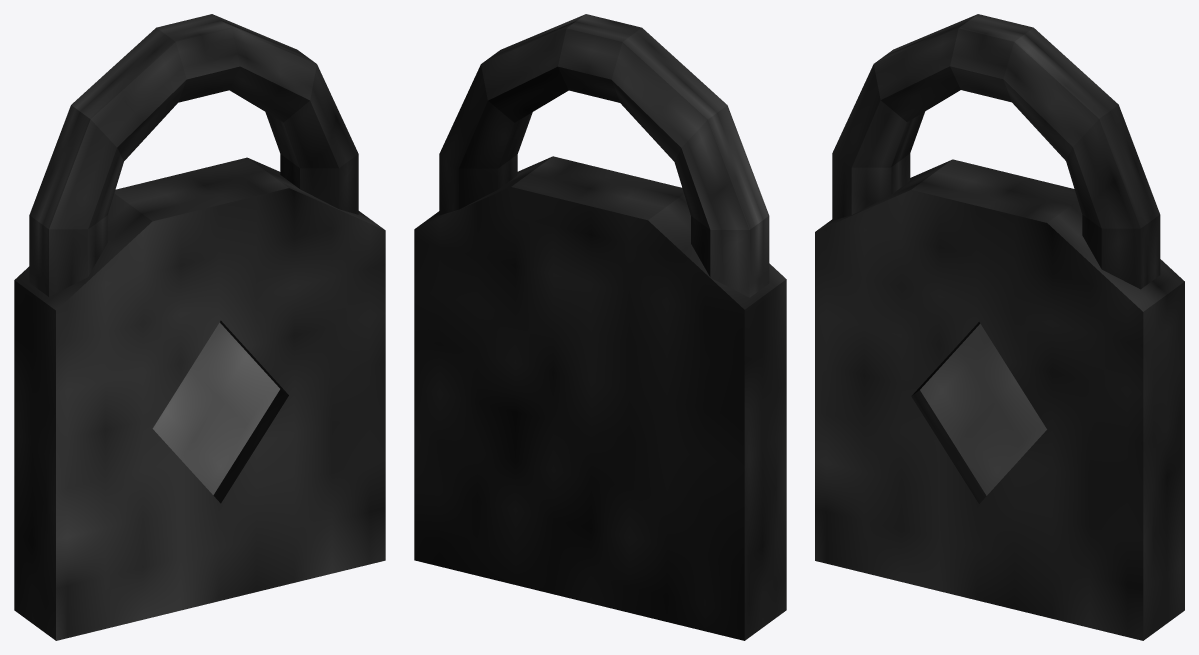
The model's file is LockDoor.fbx.
3 renders of one model, left to right at view 1: azimuth 30°, elevation 25°; view 2: azimuth 150°, elevation 25°; view 3: azimuth 330°, elevation 25°, orthographic.
Parts seen in each view (by area): view 1: Cube.018; view 2: Cube.018; view 3: Cube.018.
Boxes of the visible parts, left/top/right/bottom form: Cube.018: left=14, top=14, right=385, bottom=640; Cube.018: left=414, top=14, right=786, bottom=640; Cube.018: left=815, top=14, right=1184, bottom=640.
Size of the model in its own units: 6.28 by 10.16 by 1.38.
